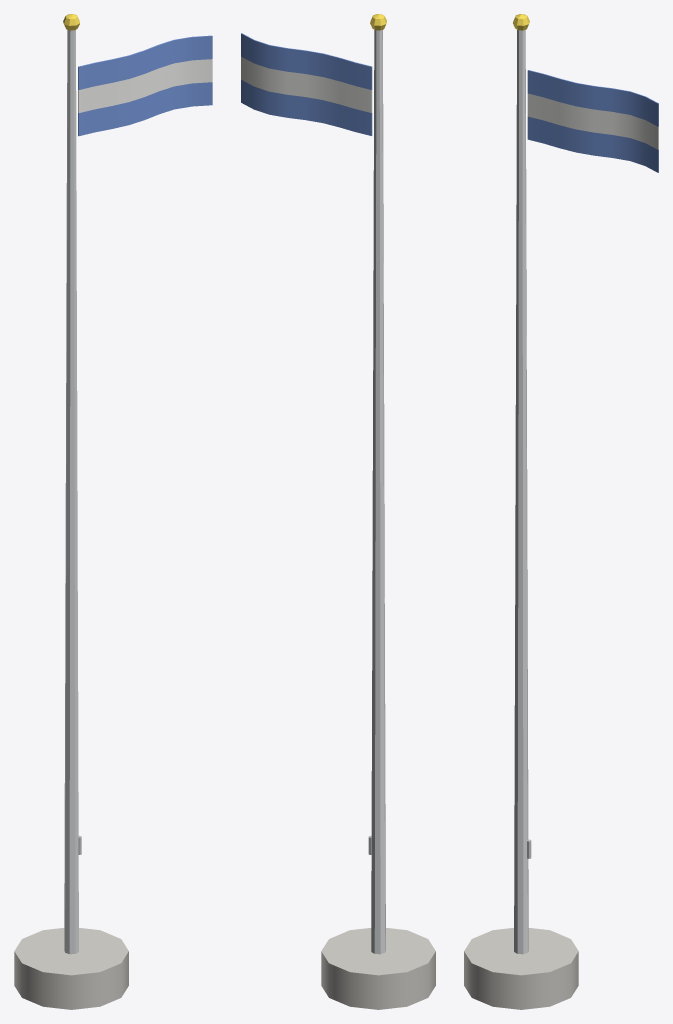
The model's file is flagpole.glb.
3 renders of one model, left to right at view 1: azimuth 30°, elevation 25°; view 2: azimuth 150°, elevation 25°; view 3: azimuth 330°, elevation 25°, orthographic.
Visible parts, largest first — view 1: body; view 2: body; view 3: body.
Boxes of the visible parts, x1,y1,x2,y2 form: body: (14, 14, 212, 1009); body: (241, 14, 435, 1009); body: (464, 14, 658, 1009).
Size of the model in its own units: 1.71 by 8.42 by 0.9.
